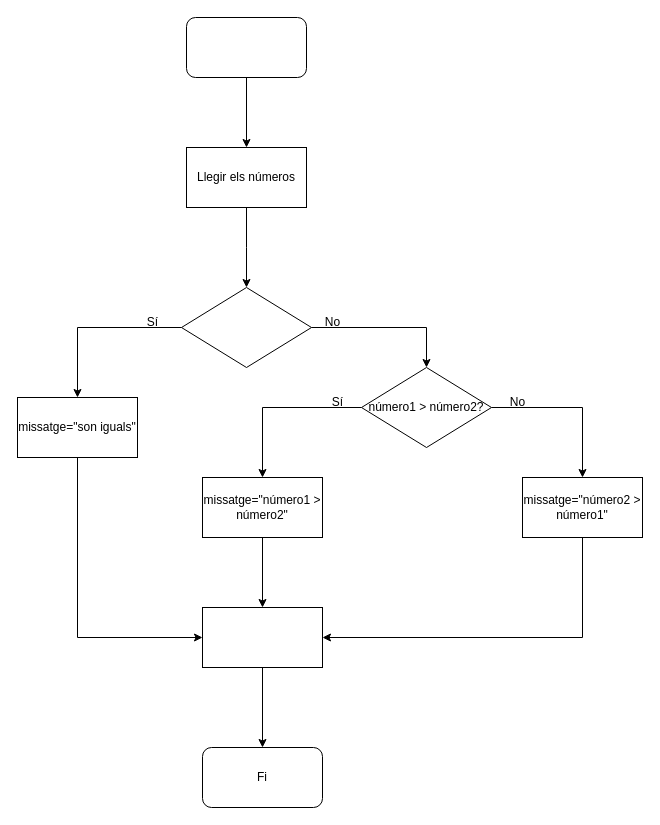
The diagram is 660 pixels wide and 825 high, and some of its shapes have lost their labels. Here are the shapes that lost their labels. From the top down, the centre of each, then its label:
pixel 246 47: Inici
pixel 246 327: número1 = número2?
pixel 262 637: Mostrar el missatge
